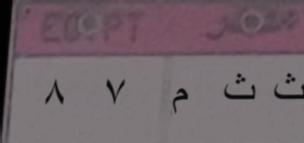7: (102, 68, 131, 110)
8: (38, 74, 74, 109)
meem: (168, 85, 196, 116)
thaa: (222, 70, 260, 104), (274, 73, 304, 108)
